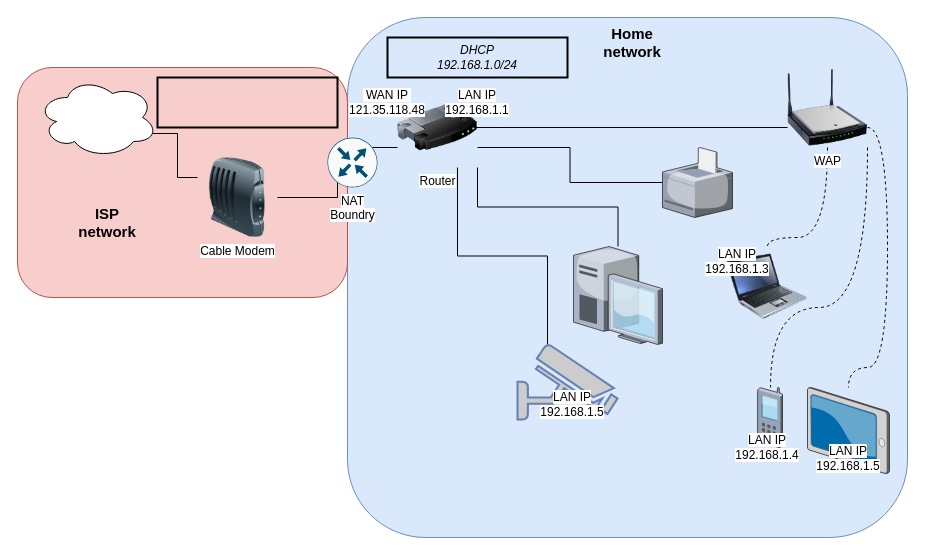
The diagram is 925 pixels wide and 555 high, and some of its shapes have lost their labels. Each missing label, with the box of its shape:
DHCP (scope determined by ISP) example: 121.35.118.0/24: (156, 76, 338, 128)
ISP WAN: (36, 76, 158, 158)
LAN IP 192.168.1.6: (573, 246, 662, 344)
LAN IP 192.168.1.7: (662, 147, 732, 217)
